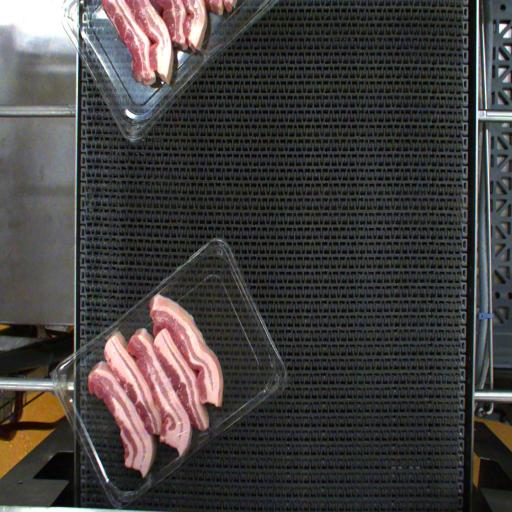packaging-error: (172, 432, 203, 465), (98, 318, 125, 347), (148, 291, 167, 310)
